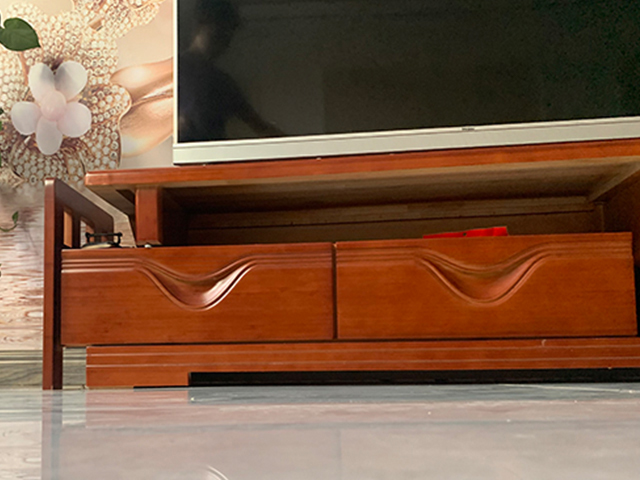cabinet: (42, 135, 640, 390)
